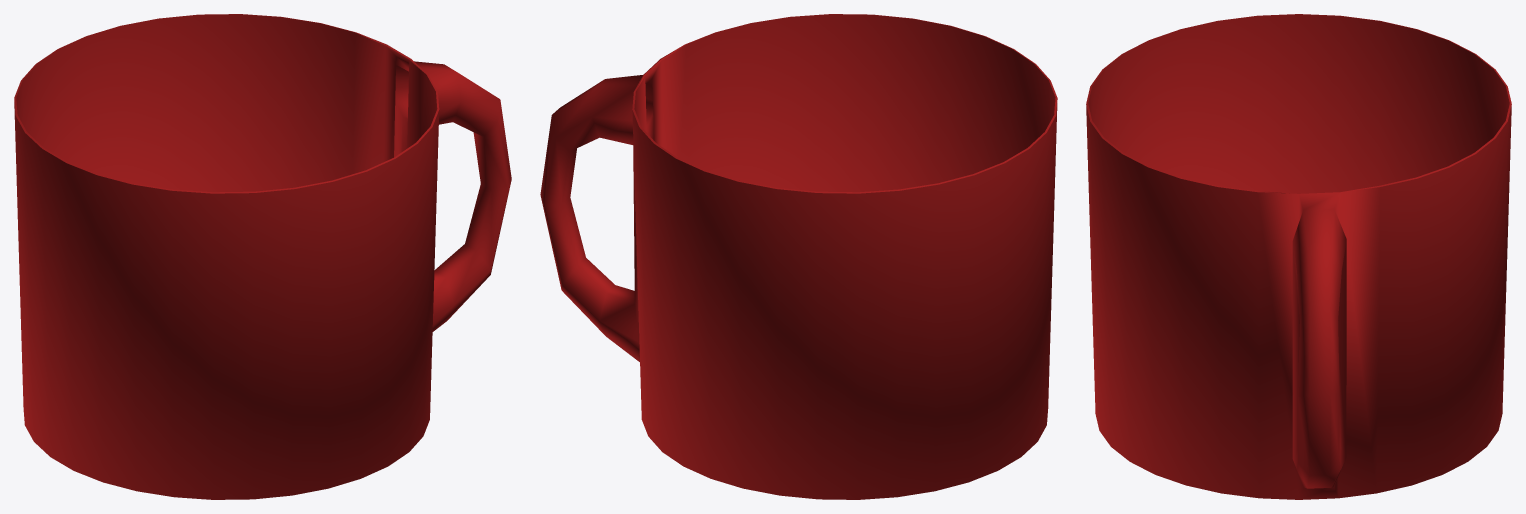
File: thermos_cup.fbx
The picture shows the model from 3 angles, left to right: view 1: azimuth 30°, elevation 25°; view 2: azimuth 150°, elevation 25°; view 3: azimuth 270°, elevation 25°; orthographic projection.
Visible parts, largest first — view 1: thermos_cup; view 2: thermos_cup; view 3: thermos_cup.
Boxes of the visible parts, box(x1,y1,x2,y2) form: thermos_cup: box(14, 14, 511, 499); thermos_cup: box(540, 14, 1057, 499); thermos_cup: box(1086, 14, 1511, 499).
Size of the model in its own units: 12.12 by 7.58 by 9.41.
